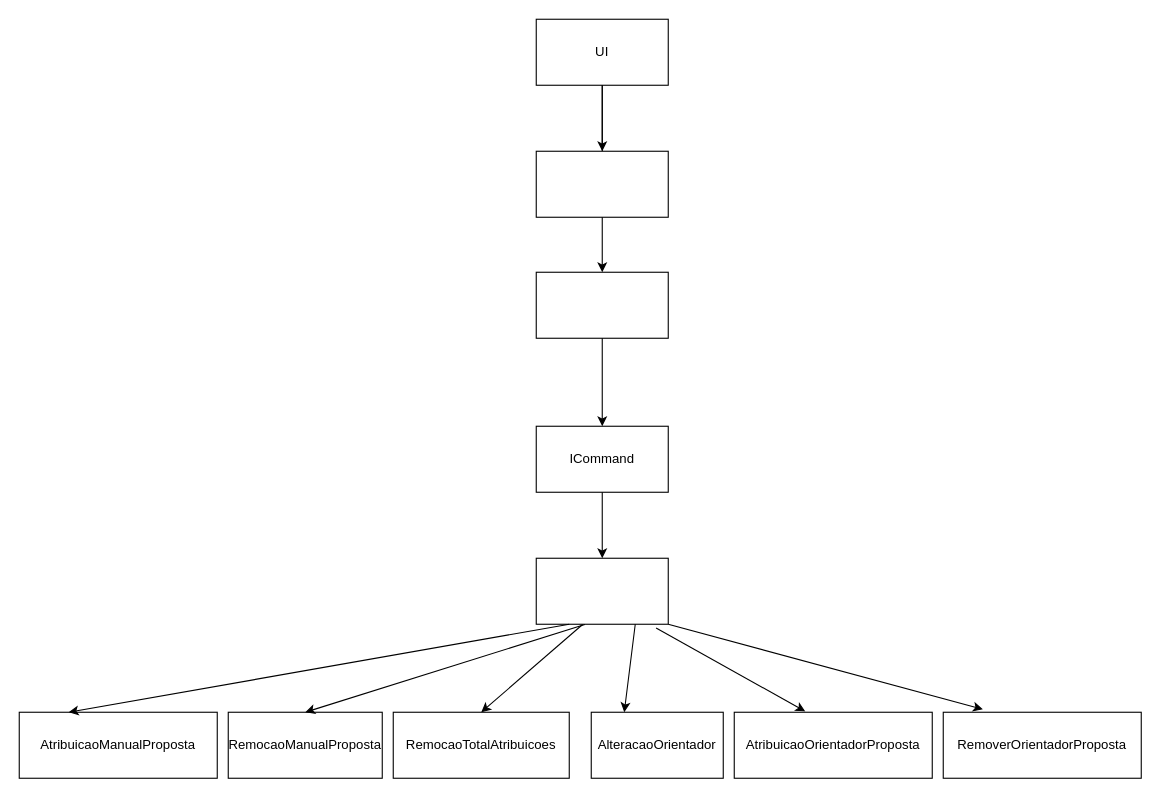
This 1161x798 diagram has some shape labels left out. The shapes that lost their labels are listed below. From the top down, each one's centre as x and y in pixels, then its label:
At point (601, 183): "ApoioManager".
At point (601, 304): "CommandManager".
At point (601, 590): "CommandAdapter".
